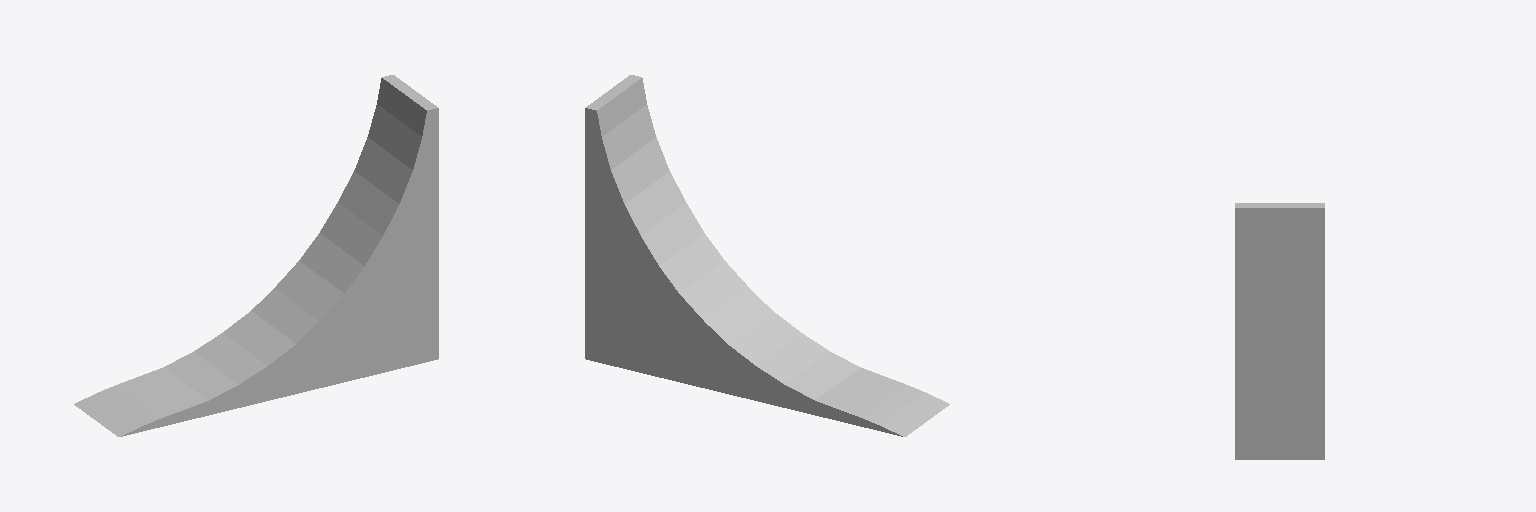
The model's file is Ramp_high_c_s.obj.
3 views of the same model, side by side, from view 1: azimuth 30°, elevation 25°; view 2: azimuth 150°, elevation 25°; view 3: azimuth 270°, elevation 25° (orthographic).
Parts seen in each view (by area): view 1: collisonbox_Smooth_Cube.001; view 2: collisonbox_Smooth_Cube.001; view 3: collisonbox_Smooth_Cube.001.
Part boxes in pixels (bbox=[...]): collisonbox_Smooth_Cube.001: bbox=[74, 75, 438, 436]; collisonbox_Smooth_Cube.001: bbox=[585, 75, 949, 436]; collisonbox_Smooth_Cube.001: bbox=[1235, 203, 1324, 459].
Size of the model in its own units: 8.15 by 6.12 by 2.01.